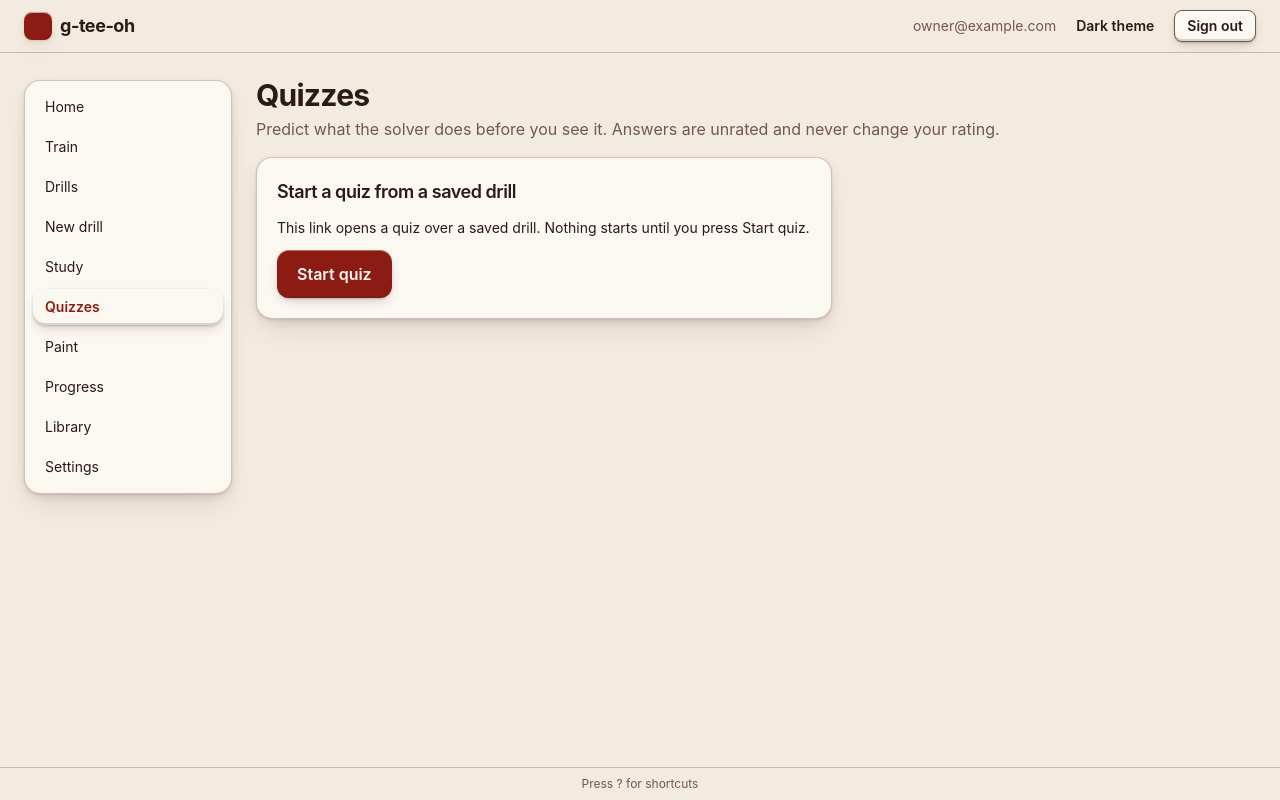
Test: R3.16 /quiz renders each answer kind › R3.16 action: the node's actions as buttons with a swatch, and the hand
Click the button "Start quiz".
click(334, 274)  # box 277,250 -> 392,298
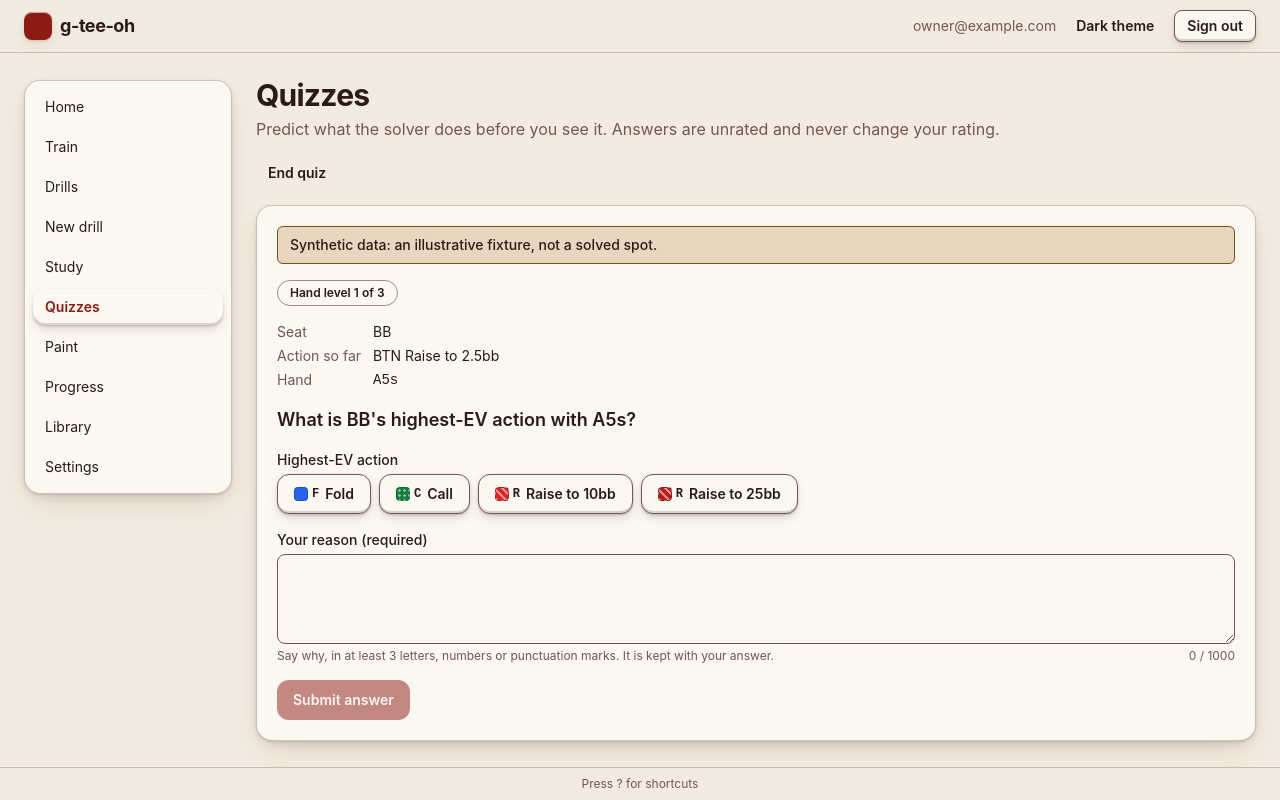
Result: the buttons read "FFold", "CCall", "RRaise to 10bb", "RRaise to 25bb", in this order at 277,474 -> 371,514; 379,474 -> 470,514; 478,474 -> 633,514; 641,474 -> 798,514
Result: the number of elements with test id "action-swatch" is 4 at 294,487 -> 308,501; 396,487 -> 410,501; 495,487 -> 509,501; 658,487 -> 672,501
Result: the text "A5s" is shown at 373,372 -> 398,388
